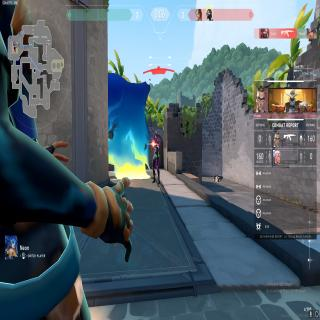ENEMY-BODY: (152, 133, 161, 187)
ENEMY-HEAD: (154, 134, 158, 141)
